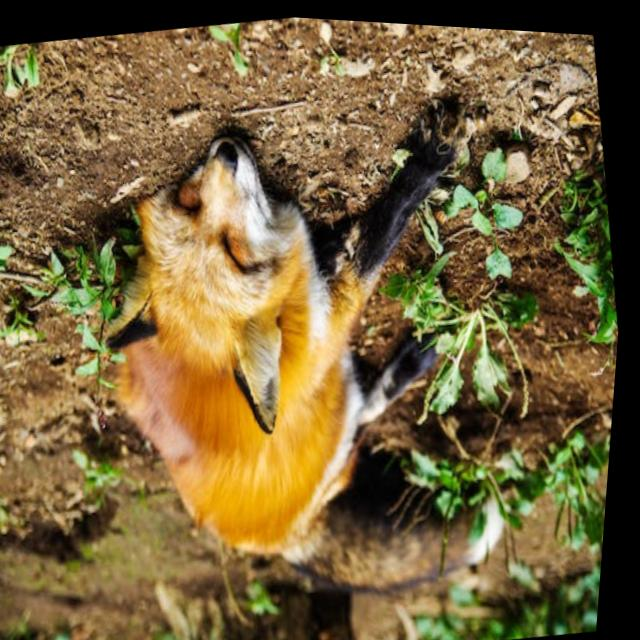cat: (56, 58, 542, 624)
